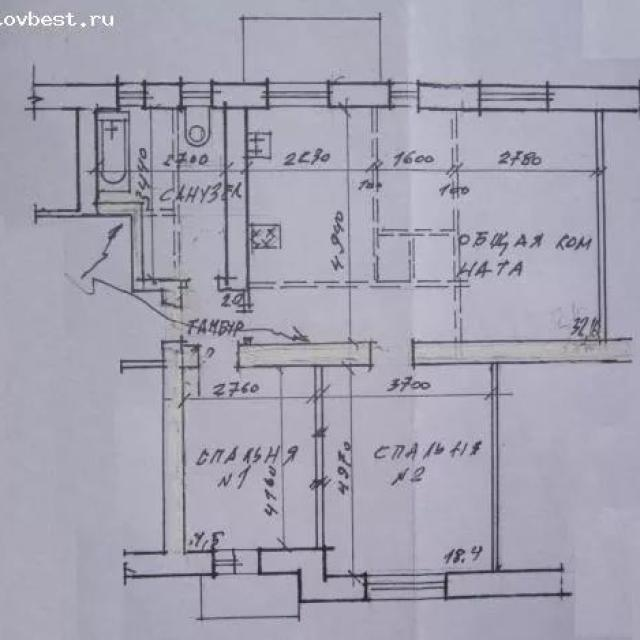Bathrooms: (98, 108, 225, 281)
Corridors: (252, 287, 454, 342), (243, 18, 380, 81), (201, 574, 299, 619), (184, 289, 244, 343), (417, 237, 453, 280), (379, 236, 409, 281)
Doors: (370, 341, 414, 367), (200, 344, 238, 367), (164, 305, 182, 342), (237, 549, 259, 573), (188, 279, 218, 288), (243, 315, 251, 342)
LBwalls: (123, 341, 214, 579), (25, 84, 118, 218), (212, 81, 267, 291), (414, 337, 634, 366), (258, 546, 367, 604), (446, 567, 572, 600), (239, 342, 371, 369), (547, 84, 640, 112), (419, 83, 478, 112), (329, 81, 390, 108), (144, 82, 181, 110), (161, 279, 182, 305)
Offices: (325, 366, 492, 574), (461, 113, 596, 339), (185, 369, 316, 551), (249, 108, 373, 282), (379, 109, 453, 229)
Walls: (248, 108, 461, 340), (96, 202, 161, 292), (595, 111, 607, 340), (491, 364, 499, 571), (315, 367, 324, 548), (379, 230, 455, 236), (34, 210, 77, 220), (120, 360, 163, 369), (409, 236, 415, 279), (243, 291, 251, 314), (183, 278, 188, 289)
Windows: (365, 573, 447, 600), (478, 83, 549, 112), (265, 80, 331, 108), (388, 80, 420, 108), (180, 82, 213, 108), (115, 82, 146, 107), (212, 548, 237, 576)
